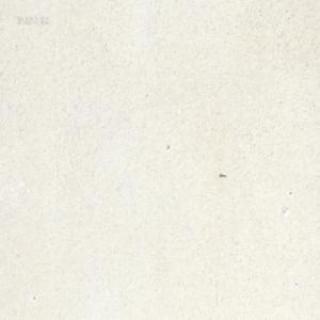Nailtrack_idkeyframe: (218, 172, 226, 177)
